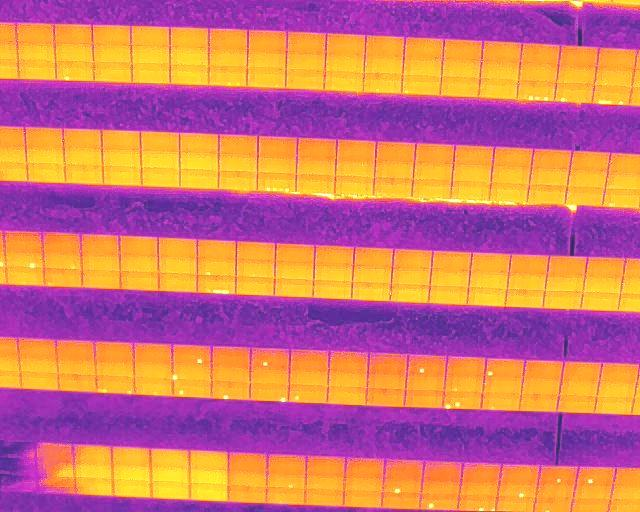Cell: (56, 61, 94, 81), (251, 349, 289, 369), (172, 345, 210, 364), (364, 74, 401, 93), (408, 354, 445, 373), (4, 251, 43, 269), (212, 381, 250, 399), (482, 392, 520, 410), (402, 76, 440, 94), (555, 83, 592, 101), (43, 252, 82, 269), (576, 467, 615, 484), (486, 358, 522, 376), (603, 189, 639, 207), (173, 380, 211, 397), (197, 259, 235, 276), (267, 472, 307, 488), (289, 385, 326, 402), (446, 375, 483, 392), (540, 466, 576, 483), (172, 364, 210, 380), (251, 385, 289, 401), (383, 479, 421, 494), (498, 482, 536, 497), (134, 379, 171, 394), (421, 495, 460, 509), (535, 499, 572, 512)
Cell-Multi: (209, 66, 247, 85), (257, 173, 296, 191), (96, 375, 134, 393), (518, 81, 555, 99), (444, 391, 481, 408), (459, 496, 496, 511)
No-Anomaly: (17, 338, 58, 360), (4, 230, 43, 251), (58, 341, 95, 363), (248, 31, 286, 52), (180, 134, 219, 154), (219, 135, 258, 155), (63, 128, 102, 148), (112, 446, 151, 466), (432, 252, 471, 272), (133, 344, 171, 364), (16, 24, 54, 44), (258, 137, 296, 157), (337, 140, 375, 160), (212, 347, 250, 367), (64, 164, 102, 184), (27, 162, 65, 182), (483, 42, 521, 62), (444, 41, 482, 61), (141, 132, 180, 151), (325, 73, 364, 92), (24, 127, 63, 146), (170, 65, 209, 84), (393, 250, 432, 269), (345, 459, 384, 478), (228, 451, 267, 470), (354, 248, 393, 267), (369, 353, 406, 373), (291, 350, 328, 370), (522, 44, 559, 64), (598, 48, 635, 68), (306, 456, 343, 476), (102, 131, 140, 150), (209, 30, 247, 49), (95, 343, 133, 362), (455, 146, 493, 165), (286, 70, 324, 89), (326, 35, 364, 54), (17, 60, 55, 79), (247, 68, 285, 87), (519, 63, 557, 82), (376, 142, 414, 161), (131, 26, 169, 45), (479, 79, 517, 98), (330, 352, 368, 371), (120, 236, 158, 255), (471, 253, 509, 272), (159, 256, 197, 275), (548, 257, 586, 276), (586, 257, 624, 276), (120, 272, 158, 291), (42, 232, 80, 251), (326, 53, 364, 72), (560, 46, 598, 65), (55, 42, 93, 61), (159, 238, 197, 257), (297, 139, 337, 157), (500, 464, 540, 482), (266, 453, 306, 471), (94, 62, 131, 81), (595, 67, 632, 86), (447, 356, 484, 375), (441, 77, 478, 96), (132, 63, 169, 82), (92, 25, 131, 43), (26, 146, 65, 164), (415, 144, 454, 162), (562, 361, 601, 379), (57, 374, 96, 392), (197, 241, 236, 259), (120, 255, 159, 273), (353, 266, 392, 284), (150, 449, 189, 467), (385, 460, 424, 478), (112, 463, 151, 481), (103, 167, 142, 185), (287, 52, 326, 70), (16, 42, 55, 60), (189, 450, 228, 468), (443, 60, 481, 78), (54, 24, 92, 42), (314, 280, 352, 298), (468, 288, 506, 306), (570, 152, 608, 170), (533, 149, 571, 167), (287, 32, 325, 50), (481, 62, 519, 80), (328, 387, 366, 405), (494, 148, 532, 166), (170, 28, 208, 46), (557, 65, 595, 83), (366, 36, 404, 54), (315, 246, 353, 264), (237, 242, 275, 260), (510, 254, 548, 272), (159, 274, 197, 292), (73, 444, 111, 462), (424, 461, 462, 479), (404, 58, 442, 76), (142, 168, 180, 186), (219, 171, 257, 189), (75, 478, 113, 496), (405, 39, 443, 57), (365, 55, 403, 73), (170, 47, 208, 65), (594, 397, 634, 414), (73, 461, 113, 478), (524, 360, 561, 378), (601, 363, 638, 381), (82, 253, 119, 271), (82, 270, 119, 288), (81, 234, 118, 252), (492, 166, 529, 184), (463, 463, 500, 481), (258, 156, 297, 173), (102, 150, 141, 167), (180, 153, 219, 170), (366, 389, 405, 406), (141, 151, 180, 168), (352, 283, 391, 300), (63, 148, 102, 165), (429, 286, 468, 303), (43, 269, 82, 286), (583, 275, 622, 292), (113, 479, 152, 496), (412, 180, 451, 197), (374, 178, 413, 195), (375, 162, 414, 179), (336, 159, 375, 176), (451, 182, 490, 199), (297, 158, 336, 175), (506, 289, 544, 306), (582, 292, 620, 309), (219, 154, 257, 171), (391, 284, 429, 301), (558, 395, 596, 412), (368, 372, 406, 389), (276, 244, 314, 261), (275, 262, 313, 279), (236, 260, 274, 277), (275, 280, 313, 297), (392, 268, 430, 285), (93, 44, 131, 61), (490, 184, 528, 201), (335, 176, 373, 193), (528, 186, 566, 203), (209, 48, 247, 65), (247, 51, 285, 68), (453, 165, 491, 182), (530, 169, 568, 186), (566, 187, 604, 204), (559, 379, 599, 395), (406, 373, 443, 390), (405, 390, 442, 407), (236, 278, 273, 295), (181, 170, 218, 187), (151, 481, 188, 498), (544, 292, 583, 308), (95, 360, 134, 376), (328, 372, 367, 388), (430, 270, 469, 286), (5, 269, 44, 285), (421, 480, 460, 496), (567, 170, 606, 186), (131, 45, 170, 61), (151, 466, 190, 482), (414, 163, 453, 179), (520, 395, 558, 411), (134, 362, 172, 378), (211, 366, 249, 382), (20, 373, 58, 389), (314, 265, 352, 281), (297, 175, 335, 191), (267, 488, 305, 504), (228, 486, 266, 502), (190, 484, 228, 500), (597, 382, 637, 397), (484, 376, 521, 392), (290, 370, 327, 386), (508, 273, 545, 289), (306, 490, 343, 506), (470, 272, 509, 287), (545, 276, 584, 291), (383, 493, 422, 508), (228, 470, 267, 485), (522, 378, 558, 394), (56, 362, 97, 376), (536, 484, 574, 499), (190, 468, 228, 483), (345, 478, 383, 493), (460, 481, 500, 495), (251, 369, 288, 384), (344, 493, 383, 507), (496, 497, 535, 511), (19, 359, 57, 373), (307, 476, 344, 490), (605, 172, 639, 187), (575, 485, 611, 499)
Shadowing: (0, 475, 38, 493), (0, 440, 37, 458), (36, 442, 73, 460), (38, 476, 75, 494), (0, 459, 37, 475), (38, 460, 74, 476)
Unclassified: (593, 85, 632, 104), (197, 275, 235, 292)
